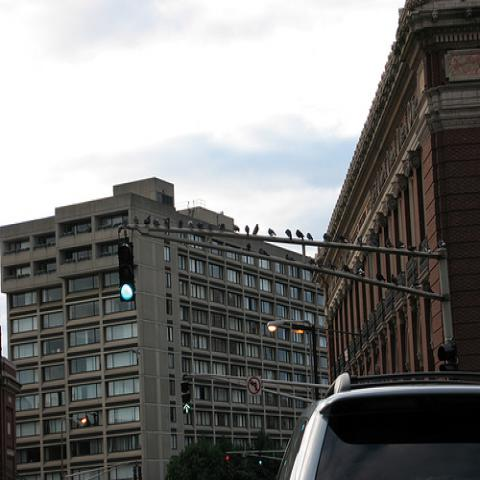car: (278, 371, 480, 474)
